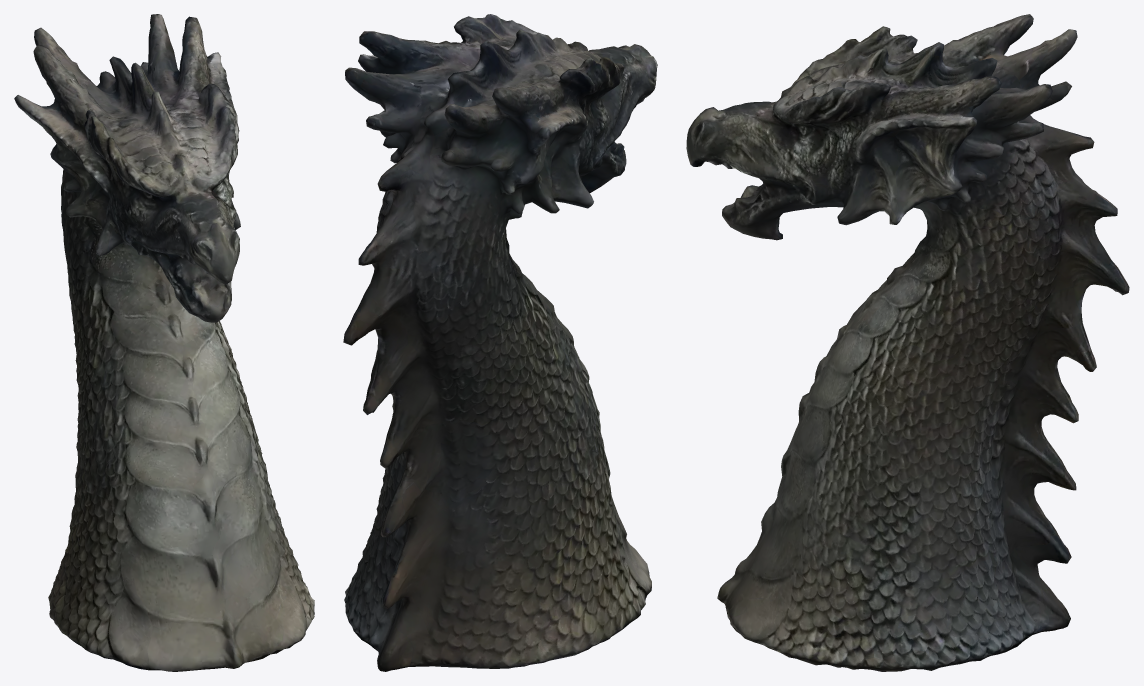
Rendered from dragon_draco_2.glb.
3 views of the same model, side by side, from view 1: azimuth 30°, elevation 25°; view 2: azimuth 150°, elevation 25°; view 3: azimuth 270°, elevation 25° (orthographic). The views are drawn at different scales.
Visible parts, largest first — view 1: Object_4; view 2: Object_4; view 3: Object_4.
Part boxes in pixels (x1,y1,x2,y2): Object_4: (14, 14, 314, 671); Object_4: (343, 14, 657, 671); Object_4: (686, 14, 1129, 671).
Size of the model in its own units: 0.1771 by 0.4074 by 0.2836.
Materials: 1 (1 with a texture image).
